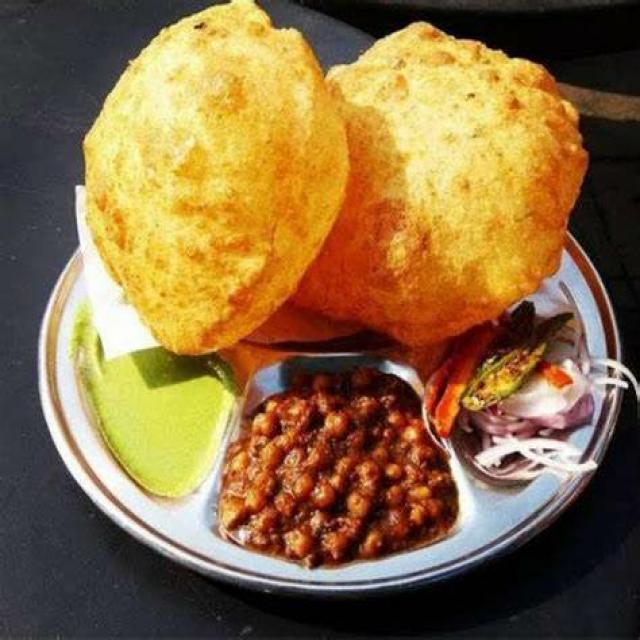Bhatura: (82, 1, 350, 355), (292, 22, 590, 337)
Chole: (224, 365, 452, 561)
